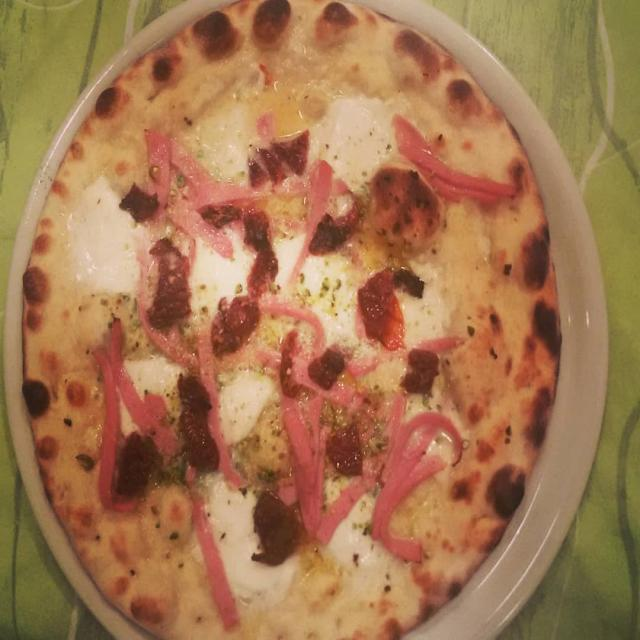pizza: (21, 0, 562, 640)
